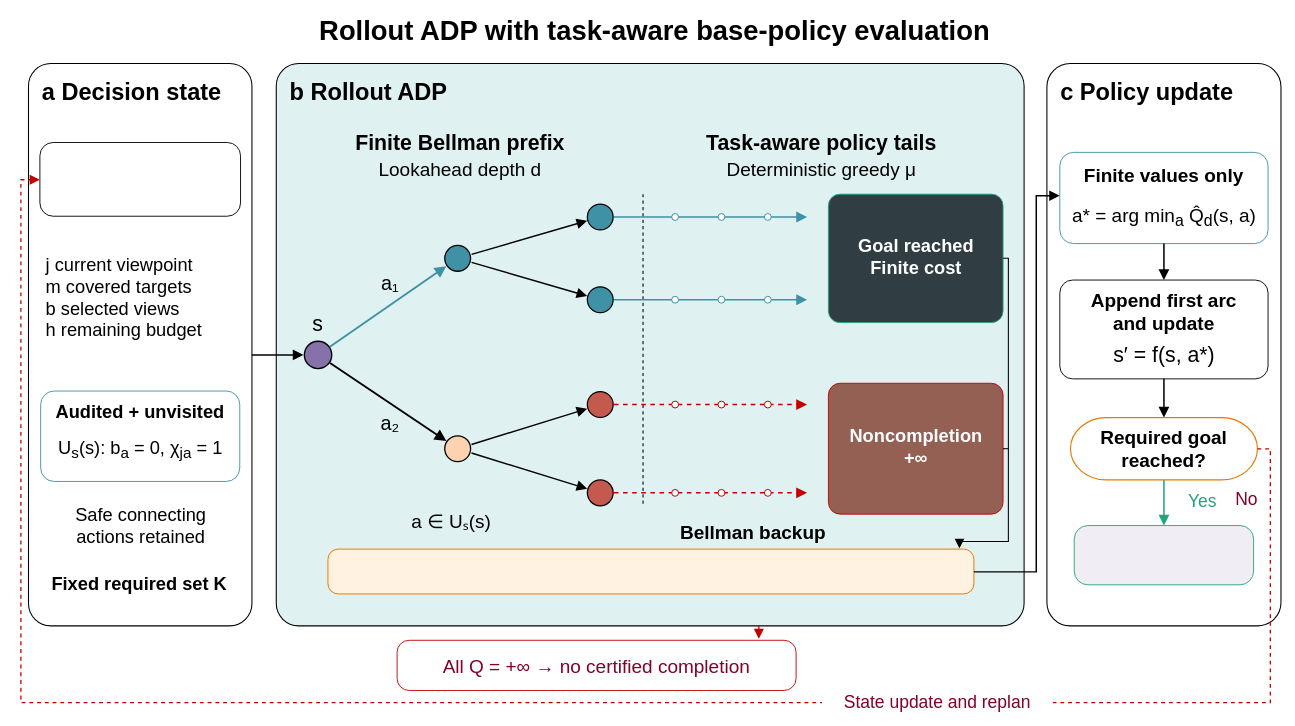
Some shapes in this 1295 by 726 pixel diagram are drawn without their labels. The shapes that lost their labels are listed below. From the top down, each one's centre as x and y in pixels, then its label:
point 140,179: s = (j, m, b, h)
point 650,571: Q̂ d (s, a) = ℓ ja + V̂ d−1 (f(s, a))
point 1163,555: Complete plan
